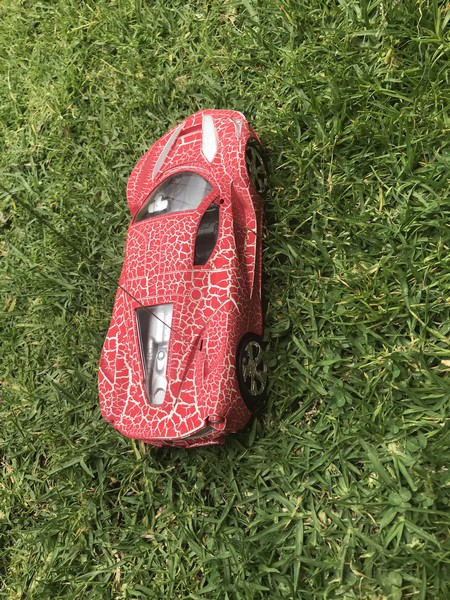RC: (93, 108, 267, 452)
